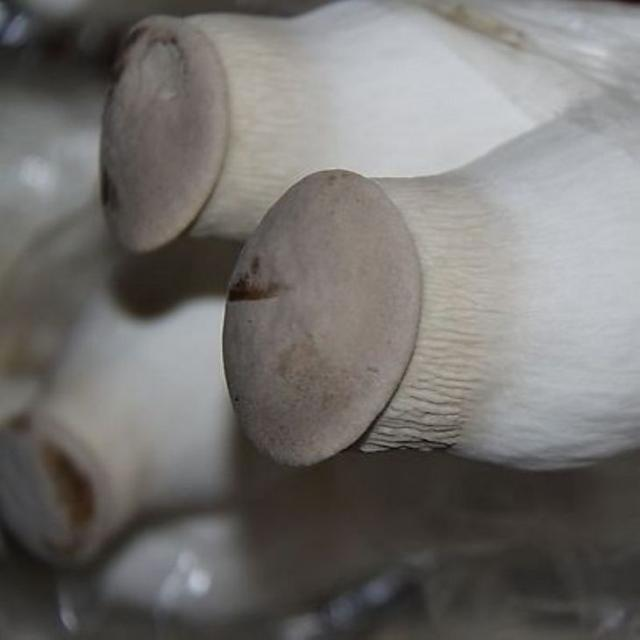Pleurotus eryngii: (221, 90, 640, 475), (104, 0, 640, 251)
